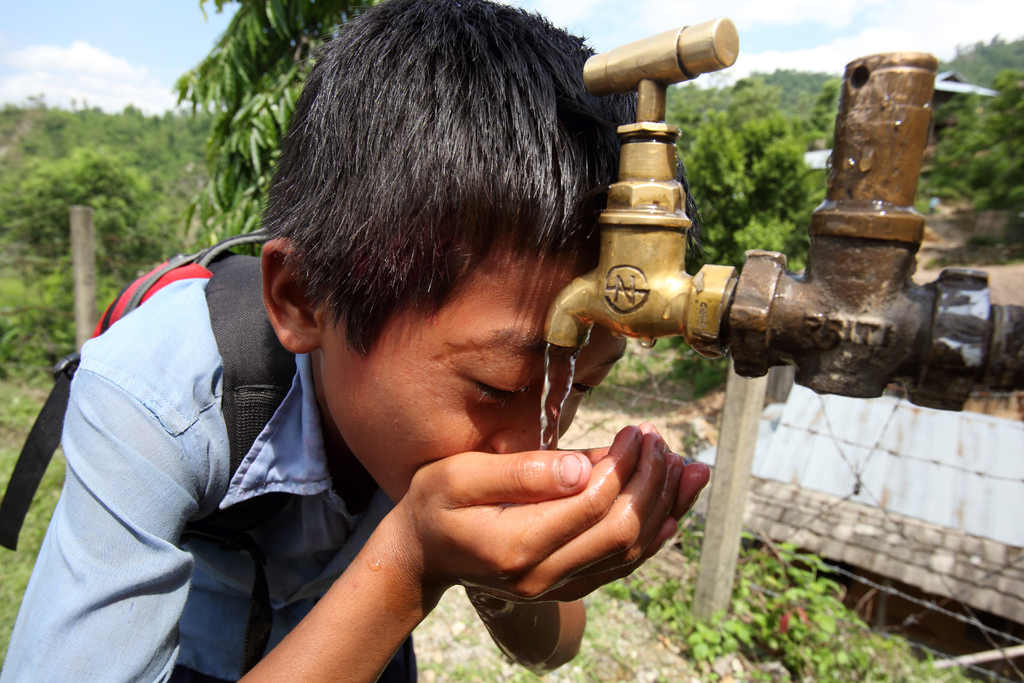tap: (540, 13, 746, 348)
